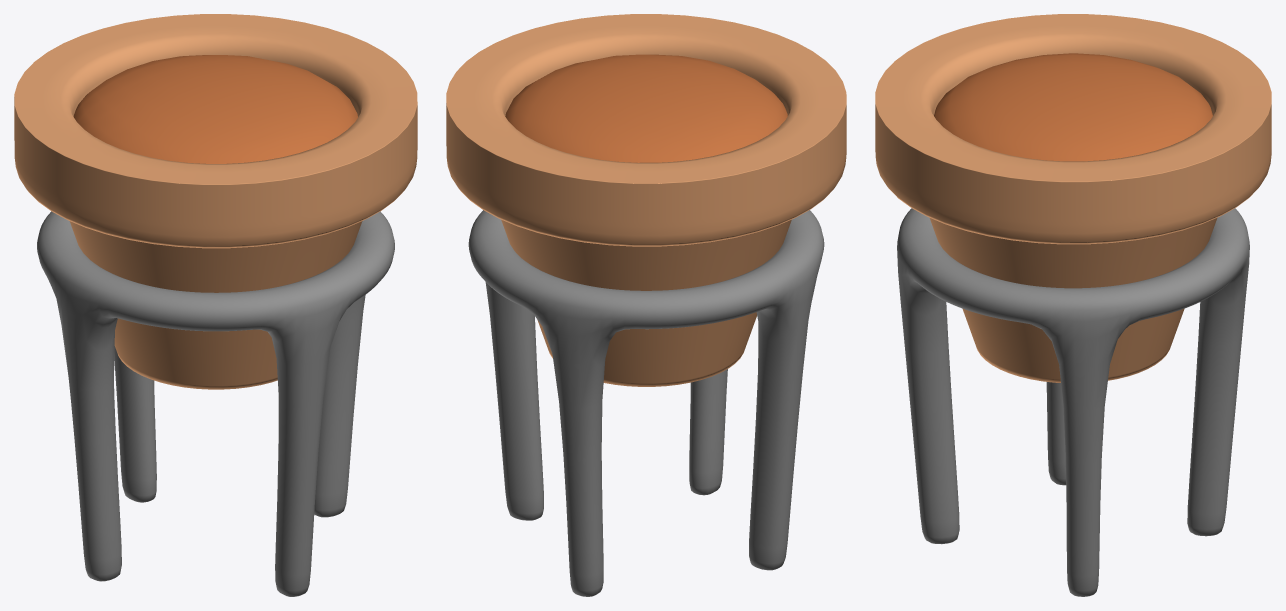
File: PlantPot (1).fbx
3 renders of one model, left to right at view 1: azimuth 30°, elevation 25°; view 2: azimuth 150°, elevation 25°; view 3: azimuth 270°, elevation 25°, orthographic.
Visible parts, largest first — view 1: Plant Pot; view 2: Plant Pot; view 3: Plant Pot.
Part boxes in pixels (bbox=[...]): Plant Pot: bbox=[14, 14, 417, 596]; Plant Pot: bbox=[446, 14, 846, 596]; Plant Pot: bbox=[875, 14, 1271, 596].
Size of the model in its own units: 20.81 by 25.97 by 20.81.
